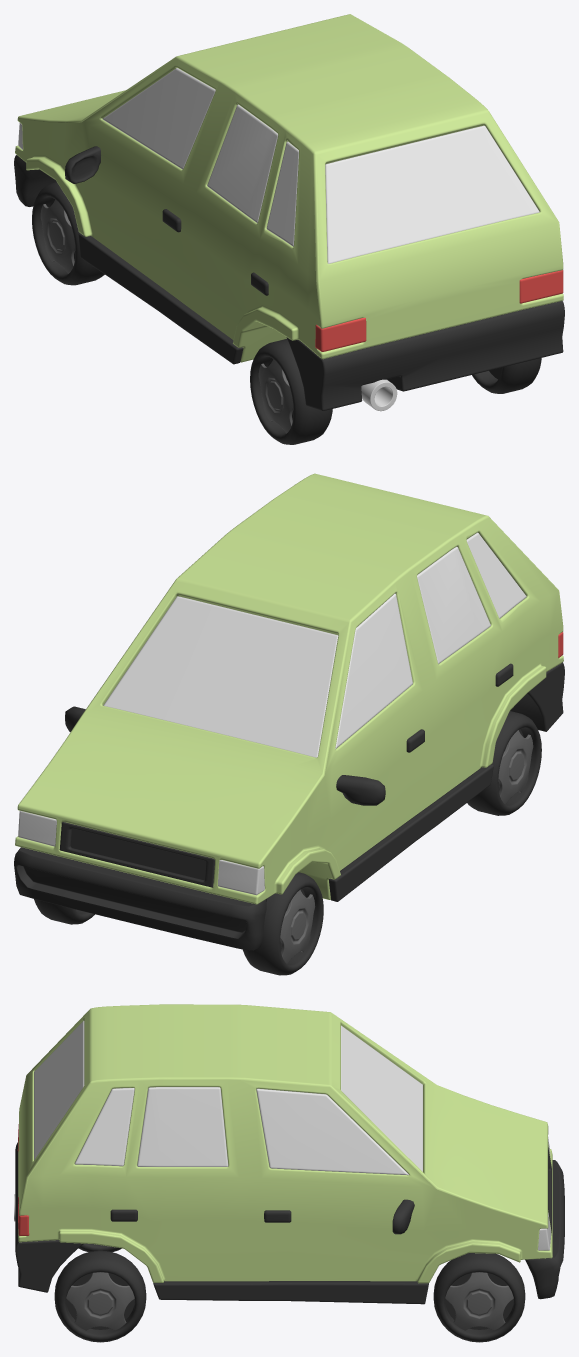
Rendered from Car.fbx.
3 renders of one model, top to bottom at view 1: azimuth 30°, elevation 25°; view 2: azimuth 150°, elevation 25°; view 3: azimuth 270°, elevation 25°, orthographic. The views are drawn at different scales.
Visible parts, largest first — view 1: Plane, Plane_Plate.006, Plane.004, Plane_Plate.001, Cylinder.001, Plane_Plate.002, Plane_Plate.007, Cylinder, Plane_Plate.004, Plane_Plate.003, Cylinder.003, Cylinder.002 (+3 smaller); view 2: Plane, Plane_Plate, Plane.003, Plane_Plate.001, Plane_Plate.002, Plane_Plate.007, Cylinder, Cylinder.001, Plane_Plate.005, Plane_Plate.003, Plane.005, Plane.004 (+3 smaller); view 3: Plane, Plane_Plate.001, Plane_Plate.002, Plane_Plate, Plane_Plate.007, Cylinder.001, Cylinder, Plane_Plate.006, Plane_Plate.003, Cylinder.002, Cylinder.003, Plane.004 (+2 smaller).
Boxes of the visible parts, x1=… form: Plane: x1=15, y1=14, x2=563, y2=362; Plane_Plate.006: x1=325, y1=125, x2=539, y2=263; Plane.004: x1=286, y1=301, x2=564, y2=410; Plane_Plate.001: x1=102, y1=68, x2=215, y2=169; Cylinder.001: x1=250, y1=339, x2=541, y2=444; Plane_Plate.002: x1=207, y1=104, x2=277, y2=223; Plane_Plate.007: x1=78, y1=233, x2=243, y2=364; Cylinder: x1=32, y1=182, x2=104, y2=285; Plane_Plate.004: x1=315, y1=270, x2=563, y2=351; Plane_Plate.003: x1=266, y1=141, x2=298, y2=246; Cylinder.003: x1=258, y1=359, x2=293, y2=433; Cylinder.002: x1=40, y1=199, x2=75, y2=273; Plane: x1=15, y1=473, x2=563, y2=904; Plane_Plate: x1=103, y1=596, x2=338, y2=757; Plane.003: x1=14, y1=847, x2=266, y2=950; Plane_Plate.001: x1=335, y1=593, x2=412, y2=748; Plane_Plate.002: x1=417, y1=546, x2=490, y2=663; Plane_Plate.007: x1=329, y1=764, x2=493, y2=901; Cylinder: x1=34, y1=872, x2=323, y2=975; Cylinder.001: x1=467, y1=711, x2=541, y2=815; Plane_Plate.005: x1=18, y1=810, x2=264, y2=895; Plane_Plate.003: x1=466, y1=532, x2=526, y2=618; Plane.005: x1=59, y1=822, x2=214, y2=887; Plane.004: x1=510, y1=662, x2=564, y2=731; Plane: x1=18, y1=1004, x2=552, y2=1283; Plane_Plate.001: x1=256, y1=1088, x2=408, y2=1175; Plane_Plate.002: x1=137, y1=1087, x2=228, y2=1166; Plane_Plate: x1=341, y1=1025, x2=422, y2=1171; Plane_Plate.007: x1=153, y1=1281, x2=428, y2=1304; Cylinder.001: x1=54, y1=1243, x2=146, y2=1342; Cylinder: x1=433, y1=1253, x2=525, y2=1342; Plane_Plate.006: x1=34, y1=1021, x2=84, y2=1159; Plane_Plate.003: x1=74, y1=1088, x2=134, y2=1166; Cylinder.002: x1=445, y1=1272, x2=513, y2=1330; Cylinder.003: x1=66, y1=1272, x2=134, y2=1330; Plane.004: x1=15, y1=1142, x2=83, y2=1292.
Size of the model in its own units: 557 by 486 by 960.
